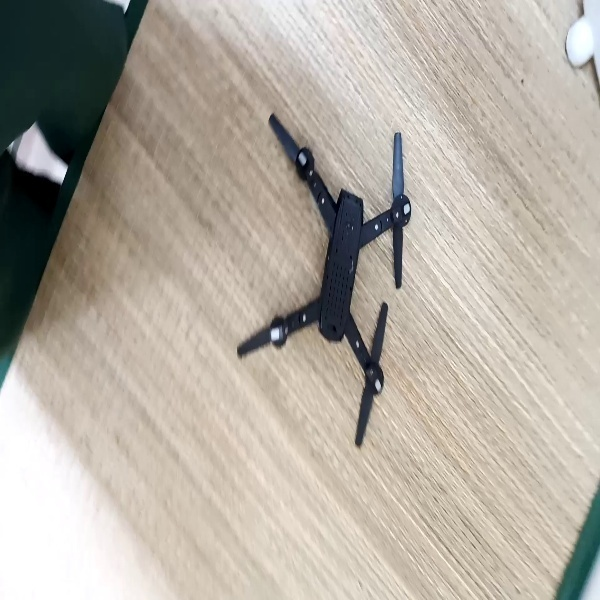drone: (229, 111, 419, 449)
